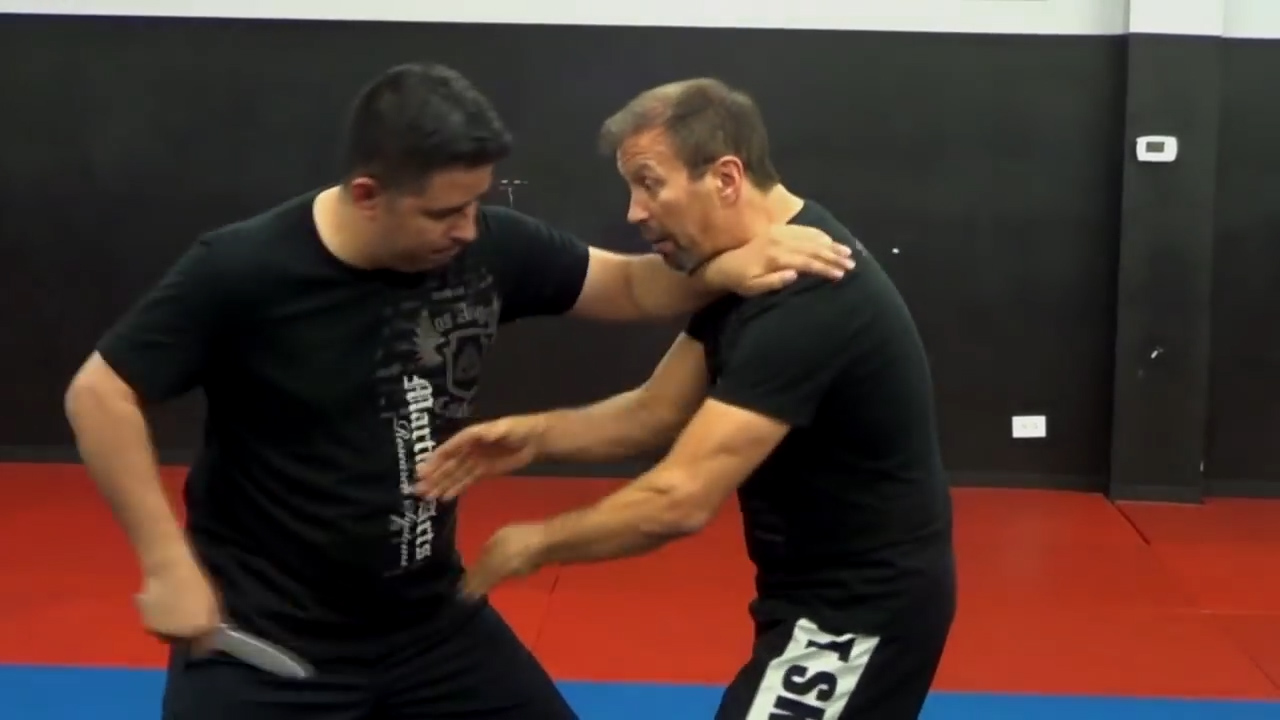knife: (132, 593, 314, 689)
